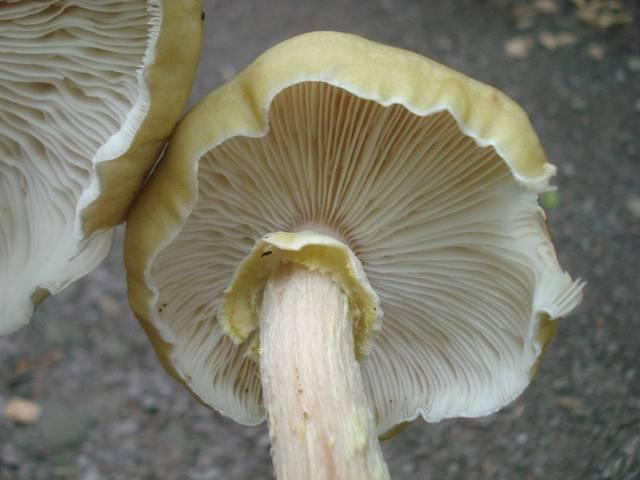edible_mushroom: (122, 28, 586, 479), (0, 0, 204, 336)
